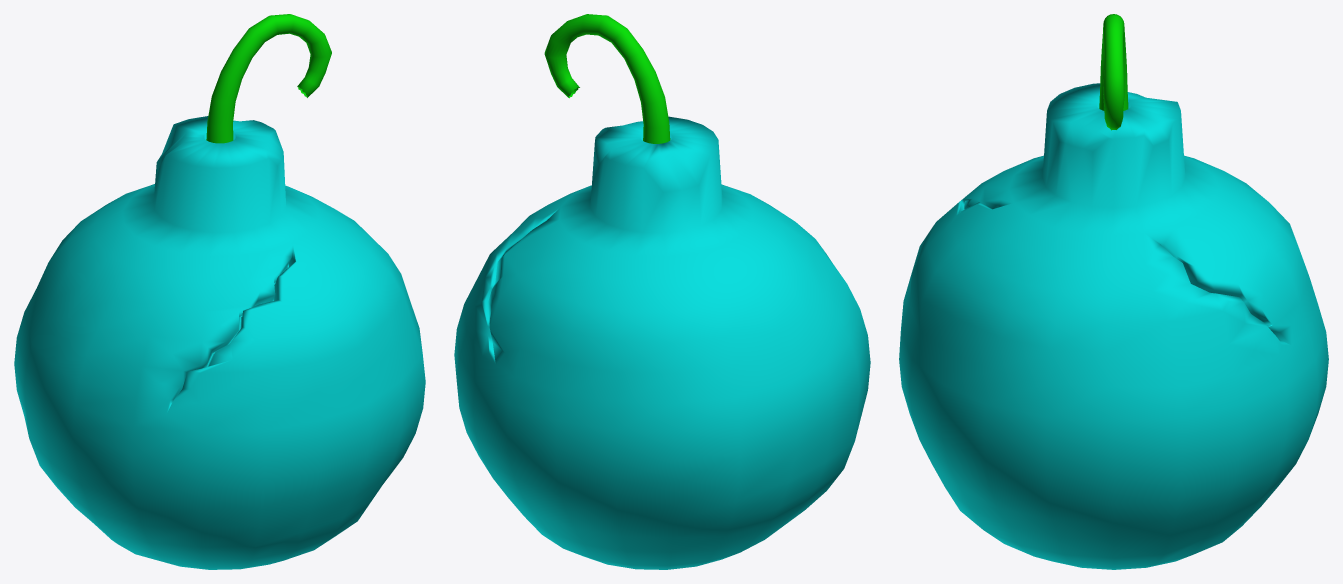
File: Bomb.fbx
3 views of the same model, side by side, from view 1: azimuth 30°, elevation 25°; view 2: azimuth 150°, elevation 25°; view 3: azimuth 270°, elevation 25° (orthographic). The views are drawn at different scales.
Visible parts, largest first — view 1: Full_Bomb_low; view 2: Full_Bomb_low; view 3: Full_Bomb_low.
Boxes of the visible parts, box(x1,y1,x2,y2) form: Full_Bomb_low: box(14, 14, 425, 569); Full_Bomb_low: box(454, 14, 870, 569); Full_Bomb_low: box(899, 14, 1328, 569).
Bounding box in the file's own units: 42.21 × 58.97 × 41.22.
